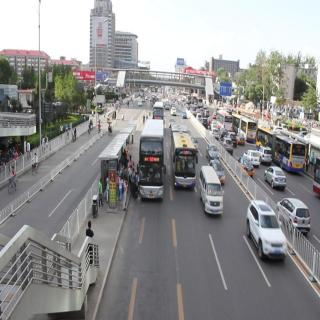Car: (248, 196, 281, 269), (259, 112, 307, 162), (277, 184, 316, 244), (141, 123, 167, 205), (170, 121, 196, 192), (199, 167, 223, 223), (261, 162, 286, 192), (241, 152, 256, 185), (207, 137, 219, 162), (223, 134, 237, 153)
